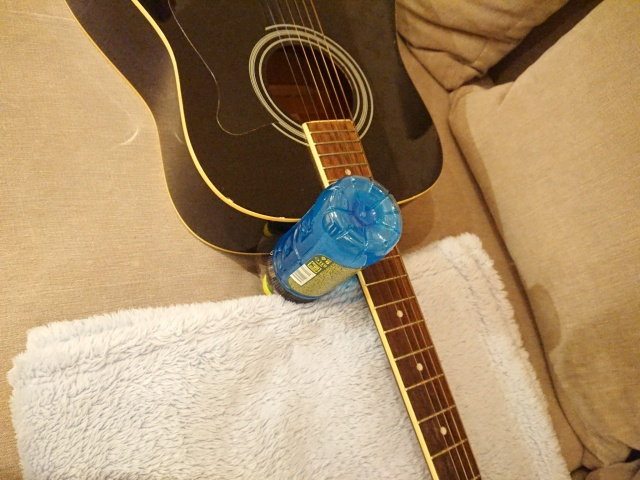Vindi Iso Sport Forest Strawberries 500mL: (259, 172, 405, 306)
